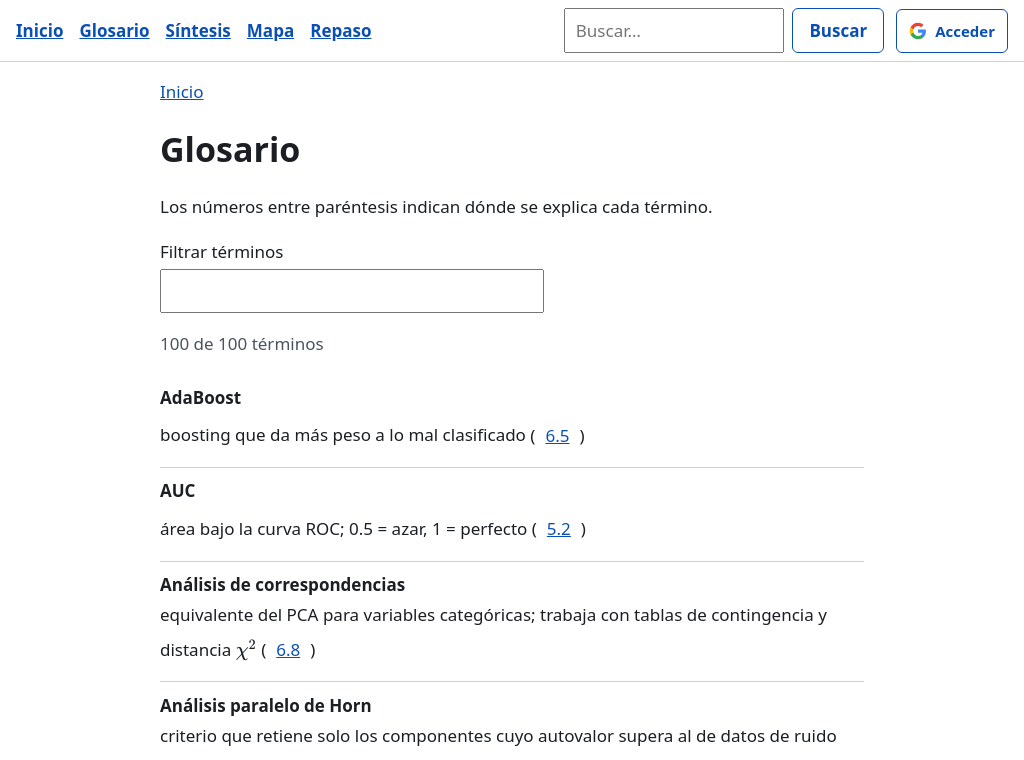
glosario › escribir "heterocedasticidad" muestra el término con su definición (AC-11)
Type "heterocedasticidad" into the search field with id "glossary-filter".
click(352, 291); type("heterocedasticidad")  # box [160,269,544,313]
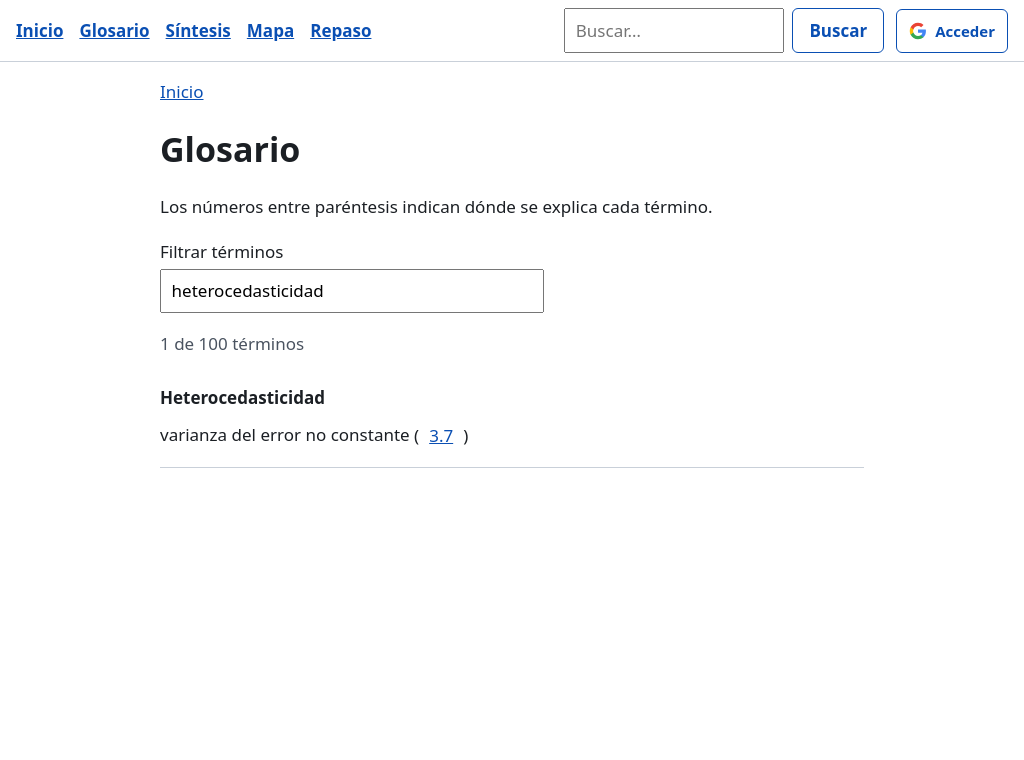
Expected: the element with class "glossary__entry" shows "Heterocedasticidad", [160,386,325,409]
Expected: the number of elements with class "glossary__entry" is 1, [160,374,864,468]
Expected: the message with class "count" reads "1 de 100 términos", [160,332,304,355]
